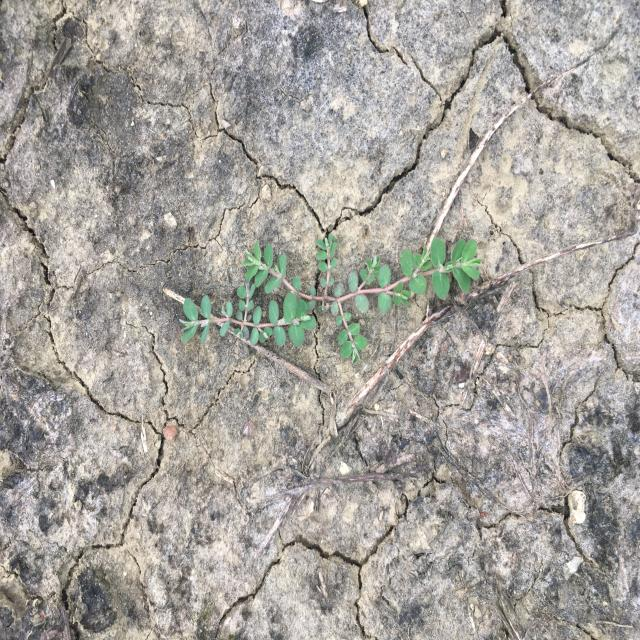SpottedSpurge: (239, 233, 485, 366), (178, 281, 318, 348)
